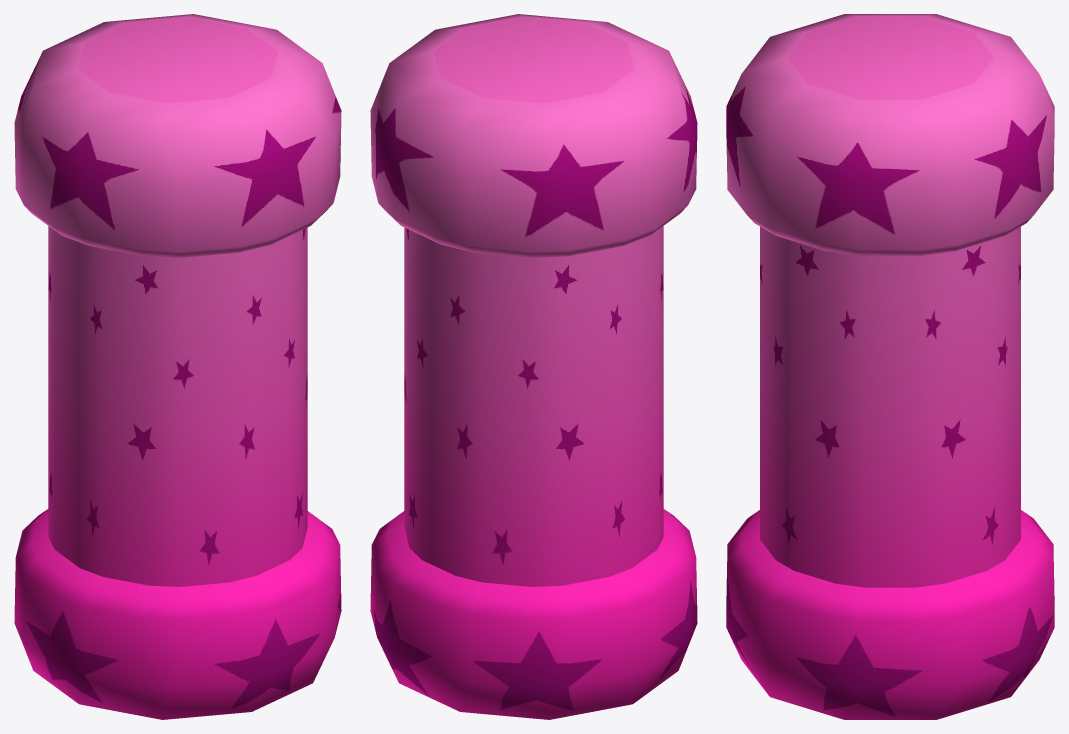
File: Pillar.glb
The picture shows the model from 3 angles, left to right: view 1: azimuth 30°, elevation 25°; view 2: azimuth 150°, elevation 25°; view 3: azimuth 270°, elevation 25°; orthographic projection.
Visible parts, largest first — view 1: Cylinder.002; view 2: Cylinder.002; view 3: Cylinder.002.
Part boxes in pixels (<box>): Cylinder.002: <box>14,14,341,719</box>; Cylinder.002: <box>370,14,697,719</box>; Cylinder.002: <box>726,14,1054,719</box>.
Size of the model in its own units: 5 by 10.4 by 5.06.
Materials: 1 (1 with a texture image).
